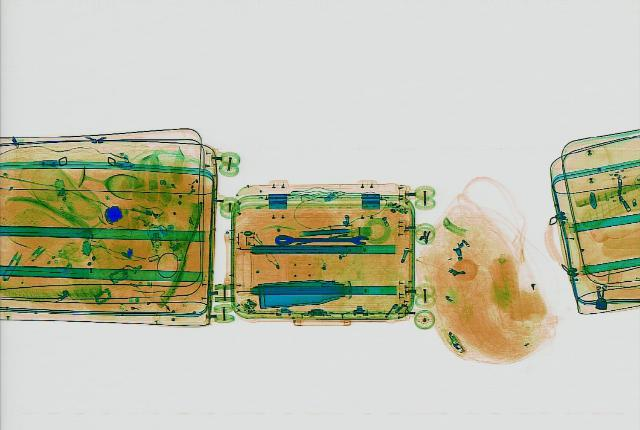Wrench: (272, 232, 368, 246)
